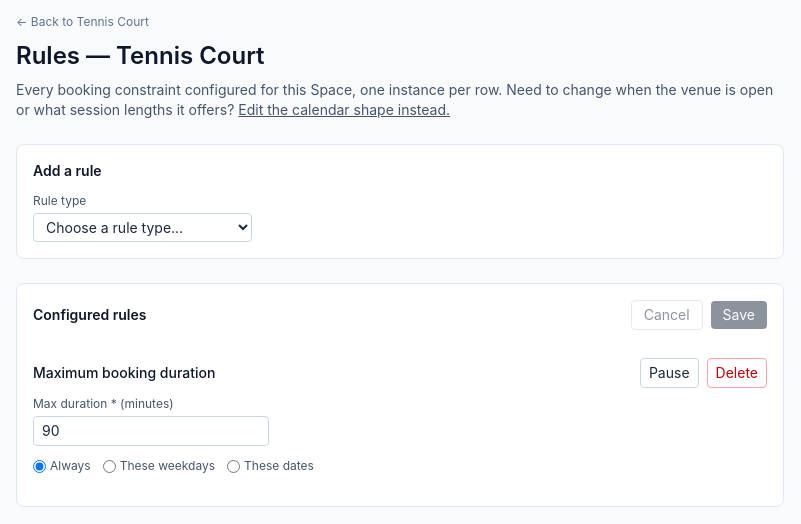
it: SpaceRulesPage — create, pause, delete › pauses a configured rule
Click the button with test id "rule-5-toggle-enabled" at [669, 373], box x1=640 y1=358 x2=698 y2=388
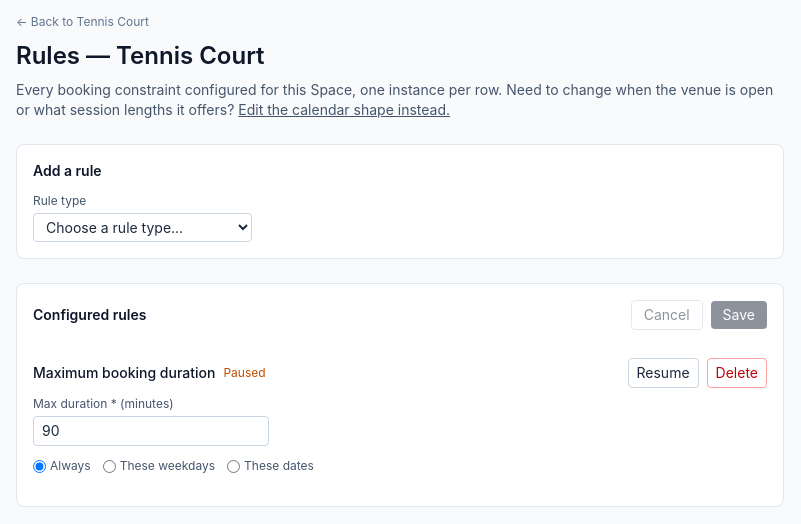
expect the text "Paused" is shown: met, box x1=223 y1=365 x2=266 y2=381
